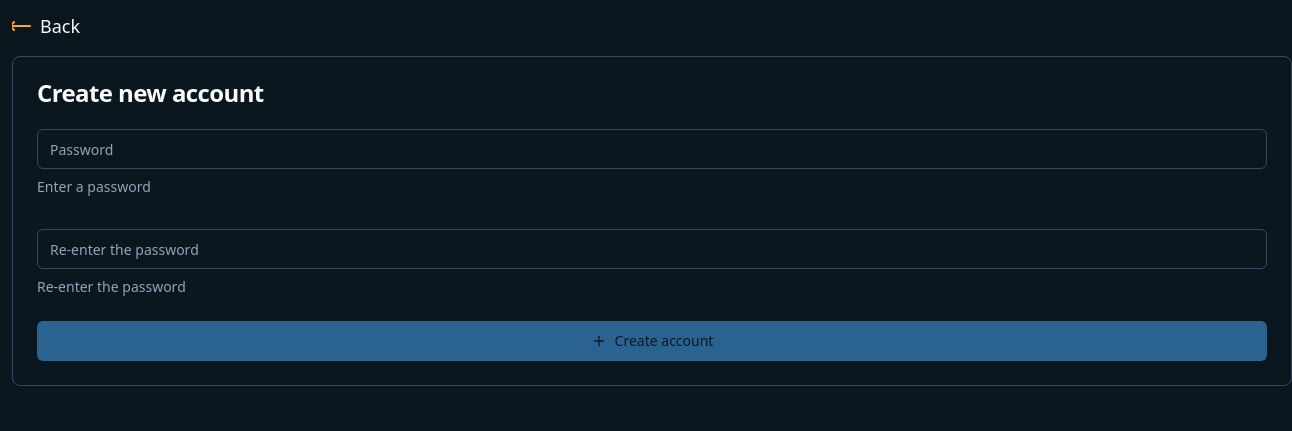
Test: AccountCreationForm › should display the error message if the entered password length is less than 8
Type "test123" into the password field labelled "Password" at (652, 149), box [37,129,1267,169]
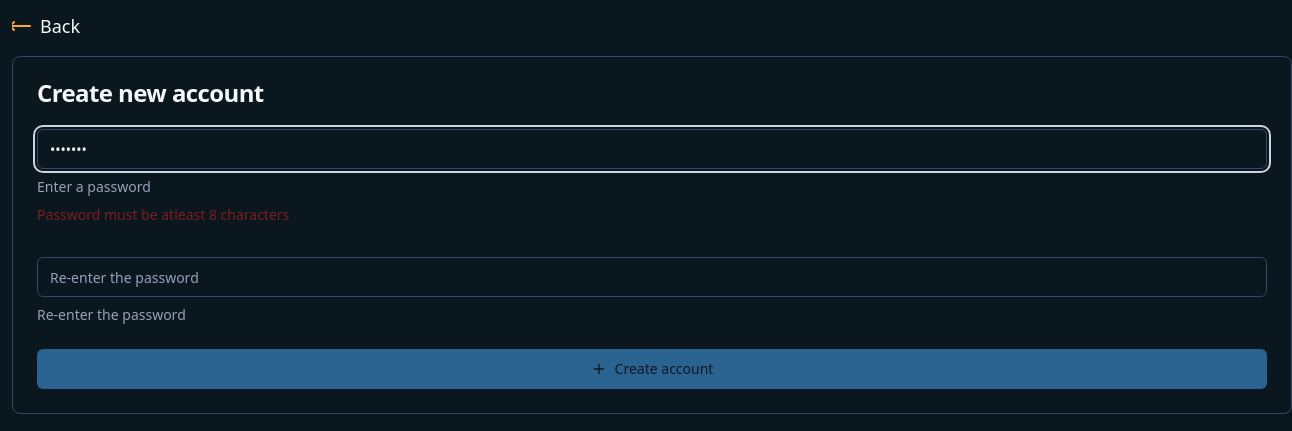
Expected: the text "Password must be atleast 8 characters" is shown, [37,205,289,224]
